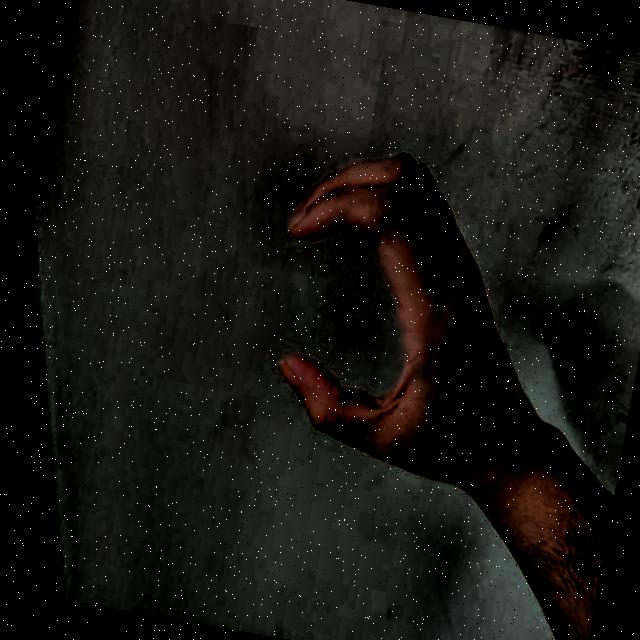A: (217, 112, 538, 520)
